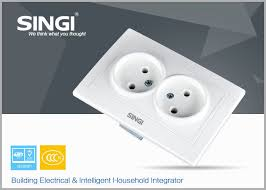raccoon: (110, 50, 165, 96), (154, 72, 207, 118)
